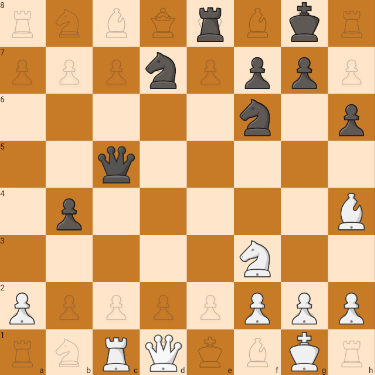bk: (283, 2, 326, 46)
bn: (144, 49, 185, 90), (238, 95, 276, 138)
bp: (53, 190, 90, 233), (334, 98, 370, 138), (286, 51, 321, 91), (240, 52, 275, 91)
bq: (95, 143, 137, 187)
br: (188, 3, 235, 48)
wb: (237, 237, 276, 280), (332, 191, 370, 231)
wk: (285, 329, 326, 374)
wp: (0, 286, 44, 328), (240, 284, 275, 326), (333, 287, 370, 326), (285, 287, 321, 326)
wq: (144, 333, 184, 374)
wr: (96, 332, 134, 373)
